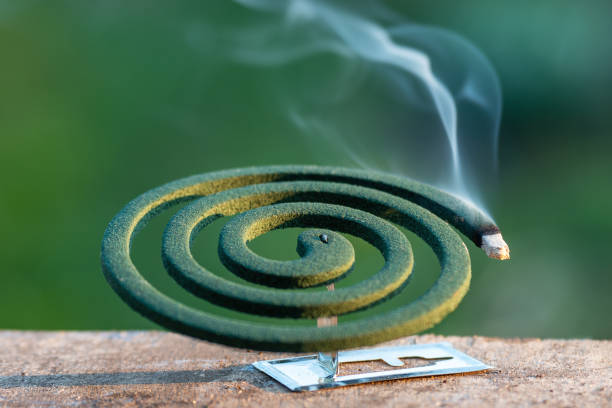Open-Flame-Hazard: (90, 129, 527, 399)
